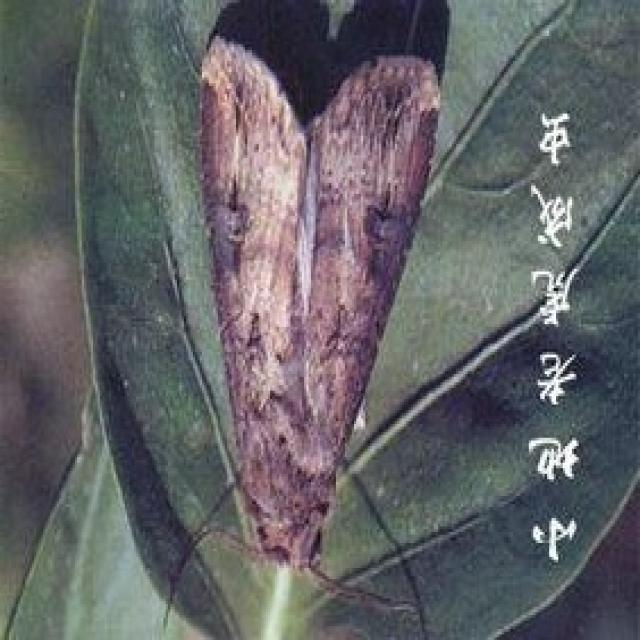black cutworm: (174, 22, 451, 590)
